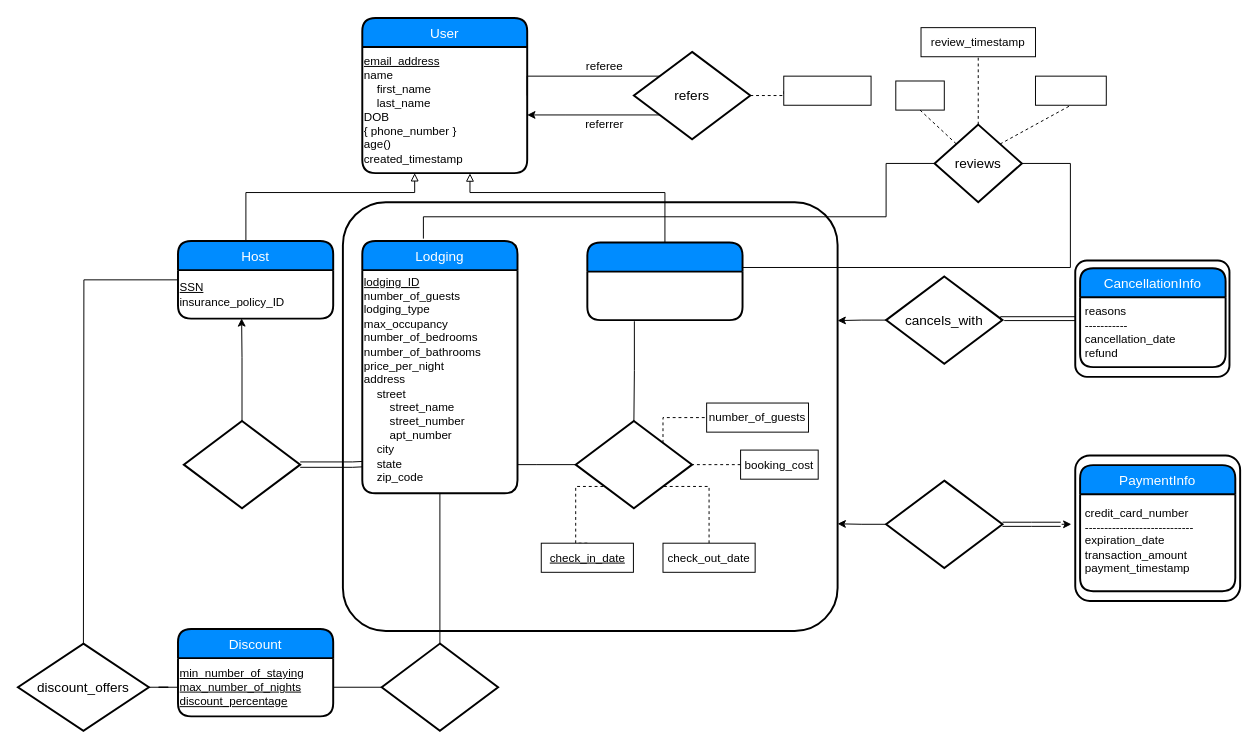
Image size: 1257x748. Some labels were removed from this diagram. Here are the shapes that lost their labels. From the top down, the centre of each, then its label:
At (827,90): "website_credit".
At (919,95): "rating".
At (1070,90): "comment".
At (664,281): "Guest".
At (241,464): "offers".
At (633,464): "books".
At (944,523): "pays_with".
At (439,686): "applies".
